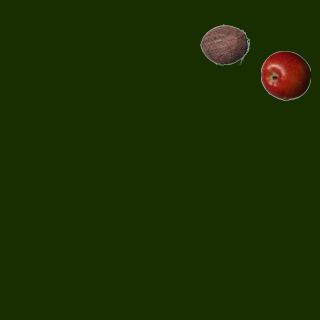Apple Braeburn: (260, 50, 310, 100)
Cocos: (199, 19, 249, 69)
